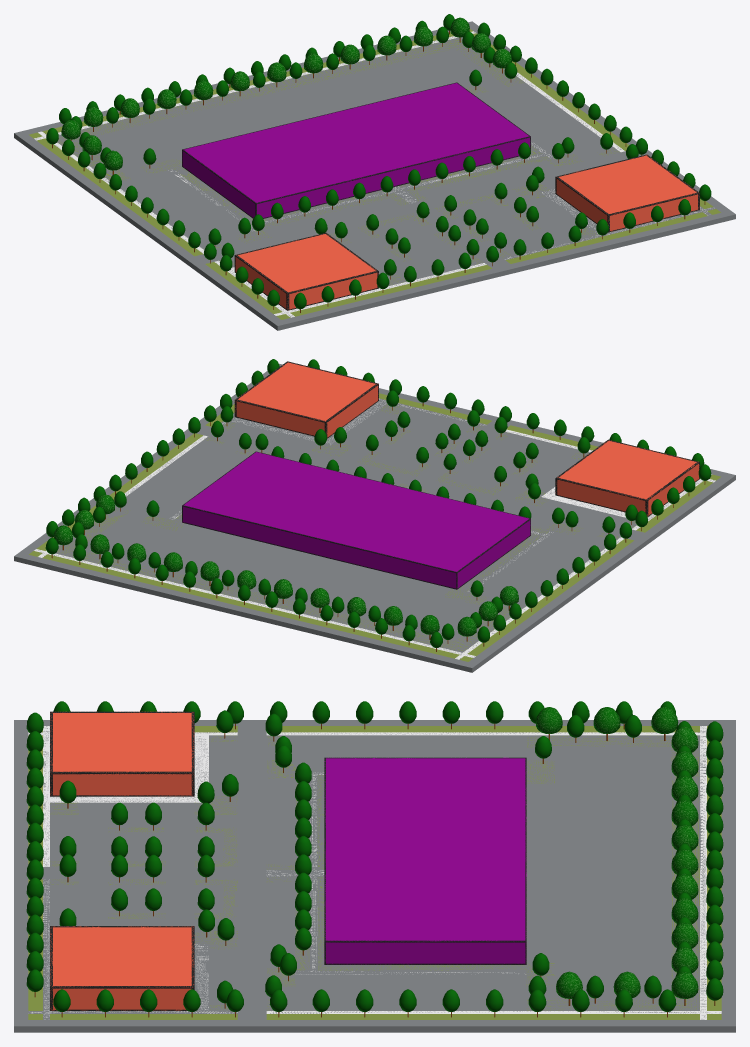
Rendered from warehouse_A.dae.
3 views of the same model, one above another, from view 1: azimuth 30°, elevation 25°; view 2: azimuth 150°, elevation 25°; view 3: azimuth 270°, elevation 25° (orthographic). The views are drawn at different scales.
Visible parts, largest first — view 1: group_5 (×16), group_4 (×4), group_3 (×4), group_2 (×4); view 2: group_5 (×14), group_4 (×4), group_3 (×4), group_2 (×4); view 3: group_5 (×19), group_4 (×3), group_2 (×3), group_3 (×3), Tree_z_Icon_3_1 (×5).
Part boxes in pixels (x1,y1,x2,y2): group_5 (×16): (14,21,735,330); group_4 (×4): (182,82,530,218); group_3 (×4): (555,154,699,232); group_2 (×4): (234,232,378,310); group_5 (×14): (14,363,735,672); group_4 (×4): (182,451,530,589); group_3 (×4): (234,361,378,438); group_2 (×4): (555,439,699,516); group_5 (×19): (14,720,735,1032); group_4 (×3): (324,757,526,964); group_2 (×3): (50,711,194,796); group_3 (×3): (50,926,194,1010); Tree_z_Icon_3_1 (×5): (535,707,698,998).
Size of the model in its own units: 102 by 102 by 6.11.
